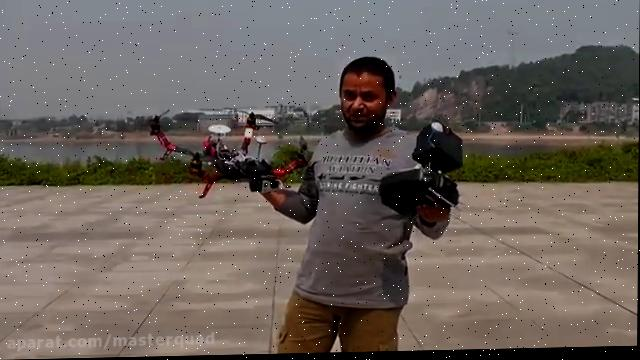drone: (135, 102, 315, 202)
